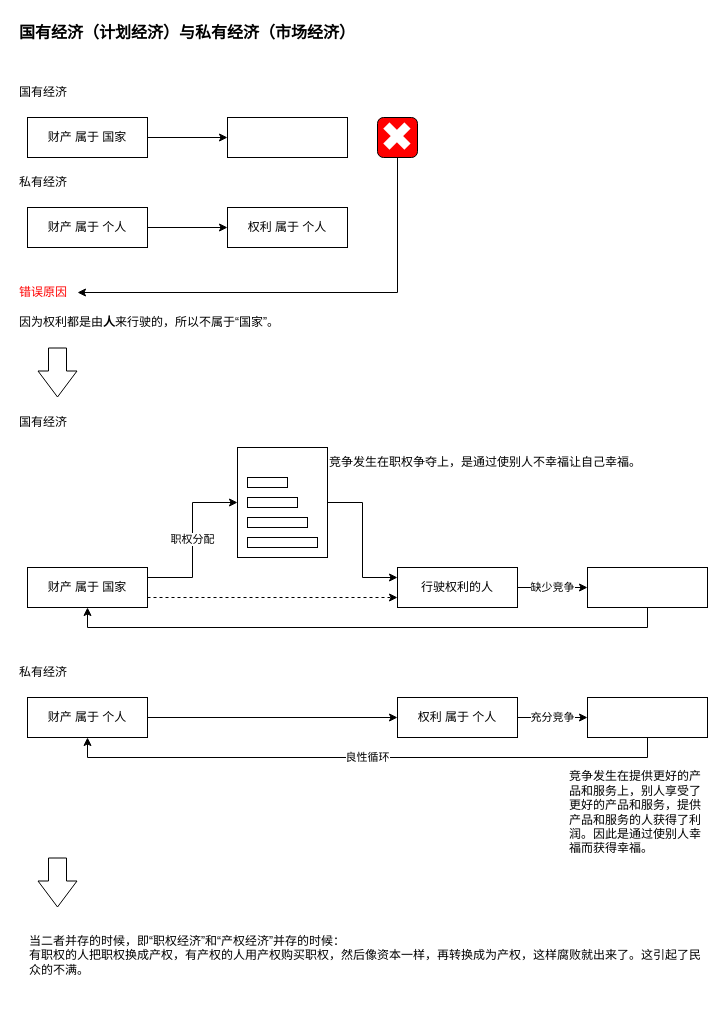
This 725x1014 diagram has some shape labels left out. Each missing label, with the centre of its shape:
为他人提供产品和服务，以获得利润: [647,717]
权利 属于 国家: [287,137]
生产制造: [647,587]
等级制度: [282,502]
